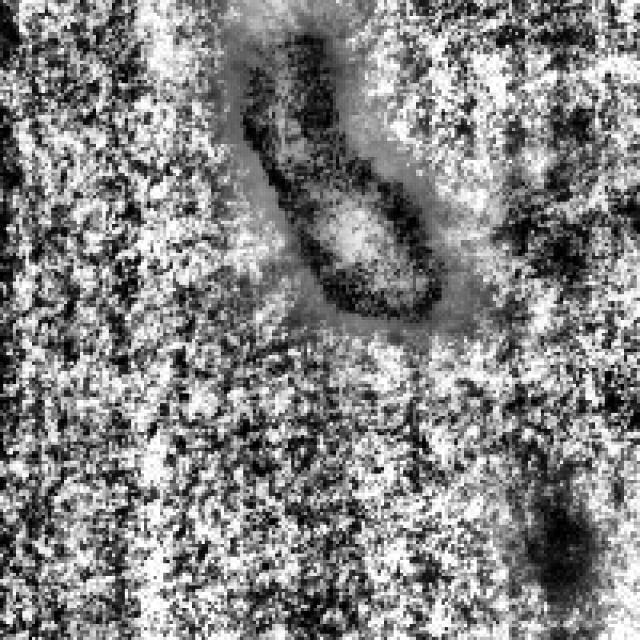Scratches: (220, 9, 454, 323)
